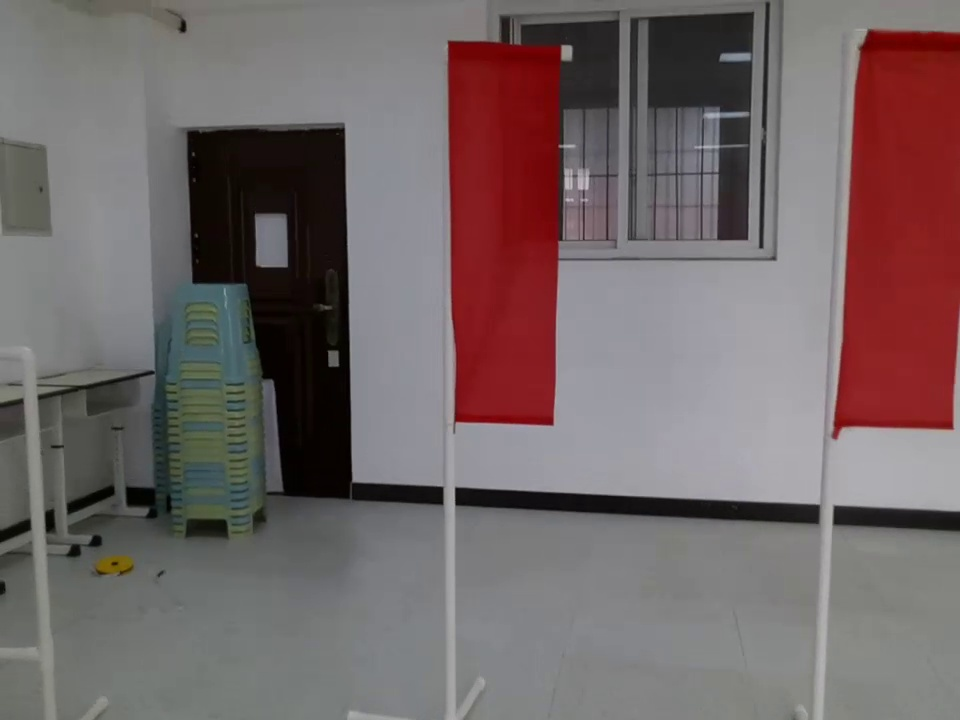qi: (429, 6, 565, 441), (841, 14, 959, 444)
